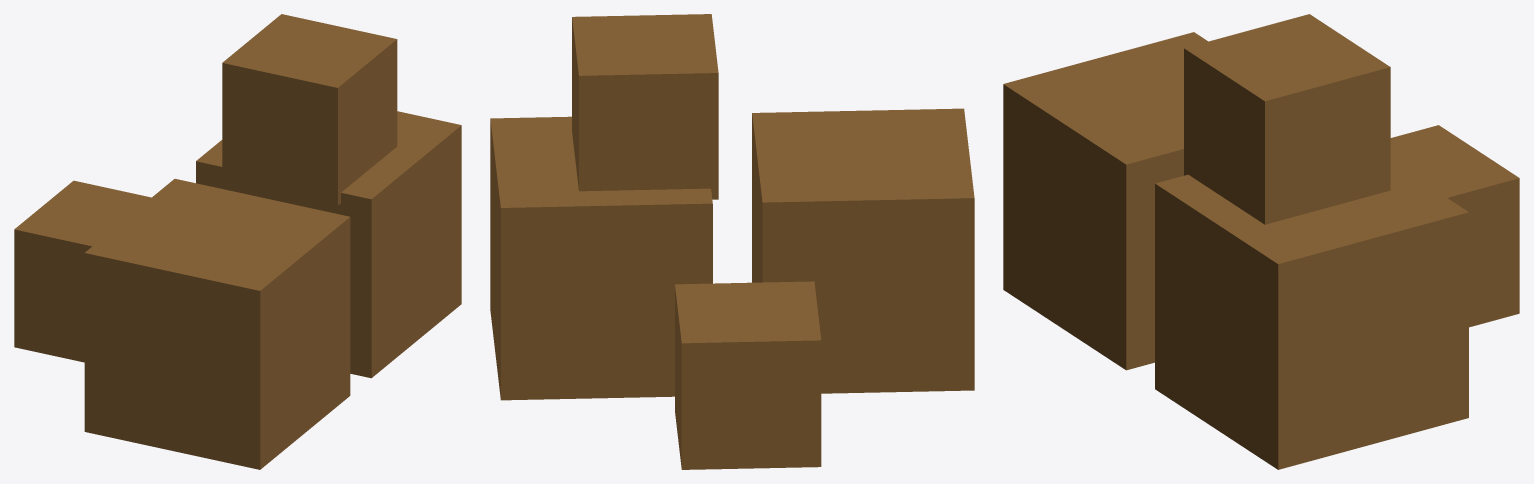
Rendered from Boxesv1.fbx.
3 views of the same model, side by side, from view 1: azimuth 30°, elevation 25°; view 2: azimuth 150°, elevation 25°; view 3: azimuth 270°, elevation 25° (orthographic). The views are drawn at different scales.
Parts seen in each view (by area): view 1: Cube.1488; view 2: Cube.1488; view 3: Cube.1488.
Boxes of the visible parts, x1=… form: Cube.1488: x1=14, y1=14, x2=461, y2=469; Cube.1488: x1=490, y1=14, x2=974, y2=469; Cube.1488: x1=1003, y1=14, x2=1519, y2=469.
Size of the model in its own units: 20.38 by 13.57 by 19.16.
